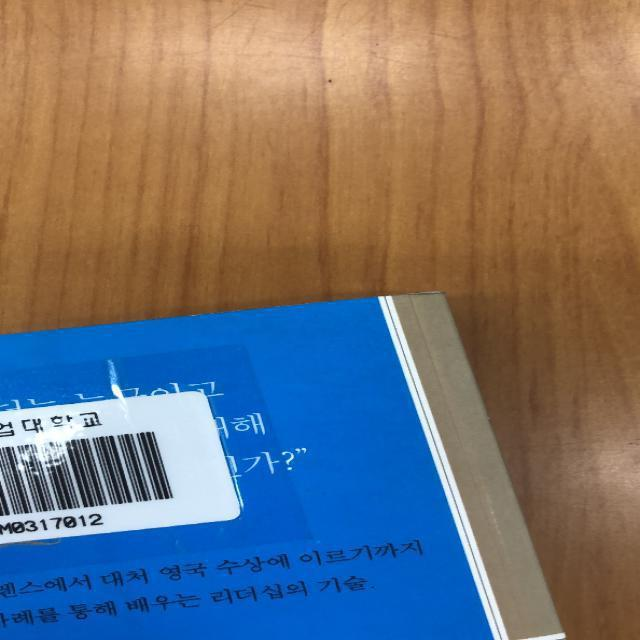Wornout: (183, 298, 344, 321)
